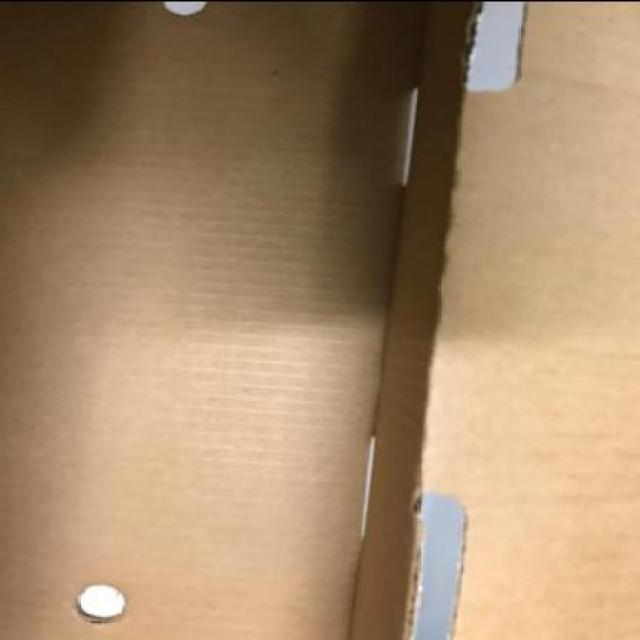CARDBOARD: (0, 1, 640, 638), (346, 1, 640, 638)
